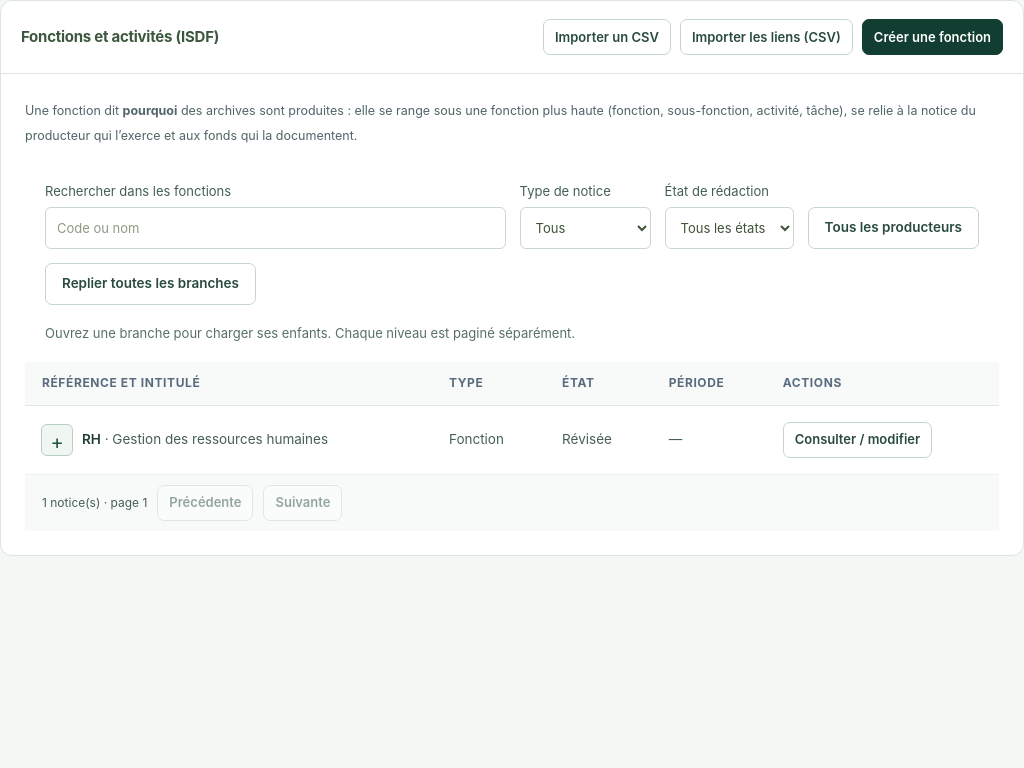
Test case: liste les fonctions en arbre : la mère d’abord, sa fille en retrait, avec type et état
Click the button named "Déplier RH".
click(57, 440)  # box [41,424,73,456]
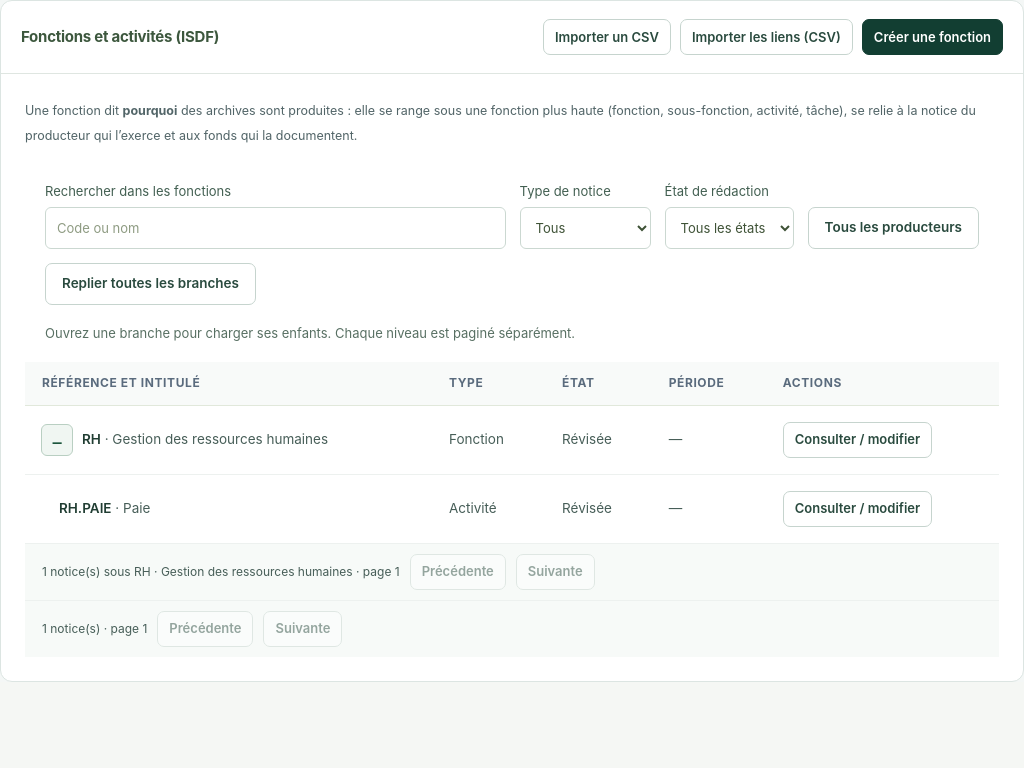
Check: the text "Paie" is shown, box [123,500,150,516]
Check: the text "Révisée" is shown 3 times
